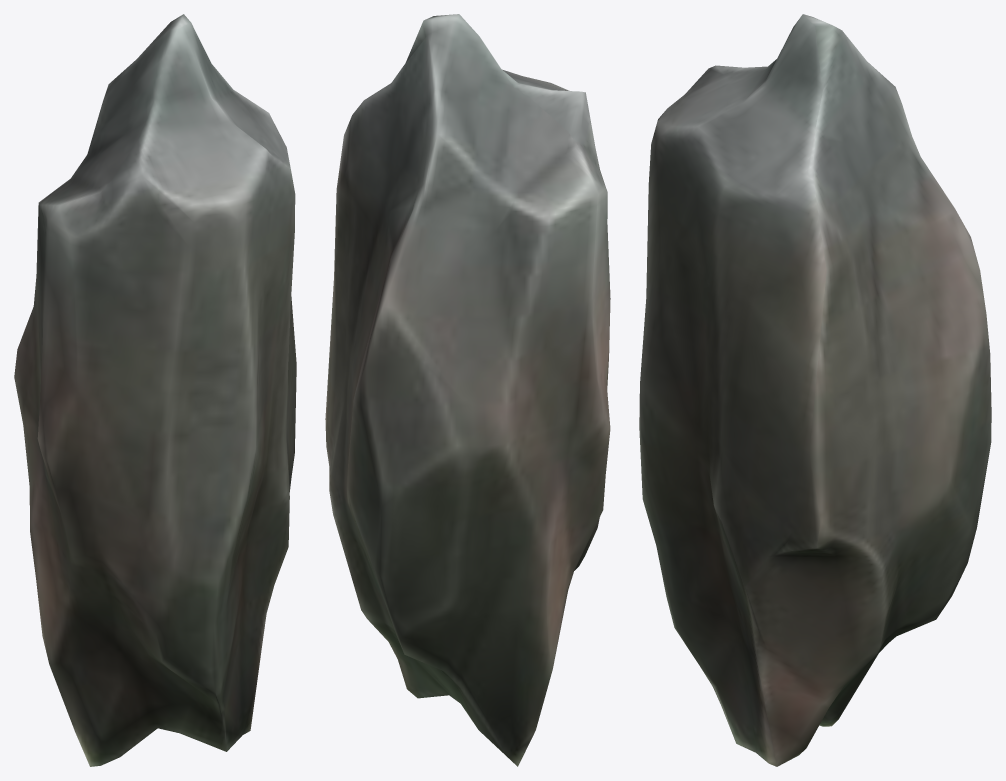
File: sp-stein-6.glb
3 views of the same model, side by side, from view 1: azimuth 30°, elevation 25°; view 2: azimuth 150°, elevation 25°; view 3: azimuth 270°, elevation 25° (orthographic). The views are drawn at different scales.
Parts seen in each view (by area): view 1: sp-stein-6; view 2: sp-stein-6; view 3: sp-stein-6.
Boxes of the visible parts, box(x1,y1,x2,y2) form: sp-stein-6: box(14, 14, 296, 766); sp-stein-6: box(325, 14, 610, 766); sp-stein-6: box(639, 14, 991, 766).
Size of the model in its own units: 0.873 by 2.27 by 0.9688.
1 material, 1 textured.
